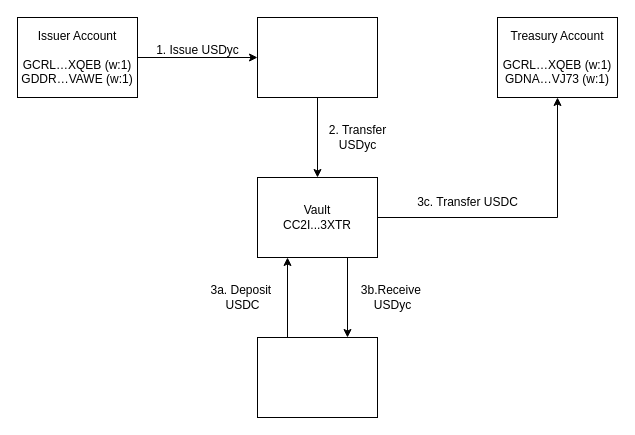
Image size: 635x435. Some labels were removed from this diagram. Here are the shapes that lost their labels. From the top down, the centre of each, then its label:
At pixel 317 57: "Distributor Account GCRL…XQEB (w:1) GDV4…RDR5 (w:1)".
At pixel 317 377: "User".
